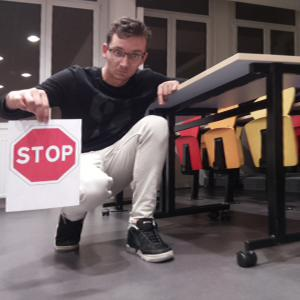stop: (10, 126, 78, 183)
